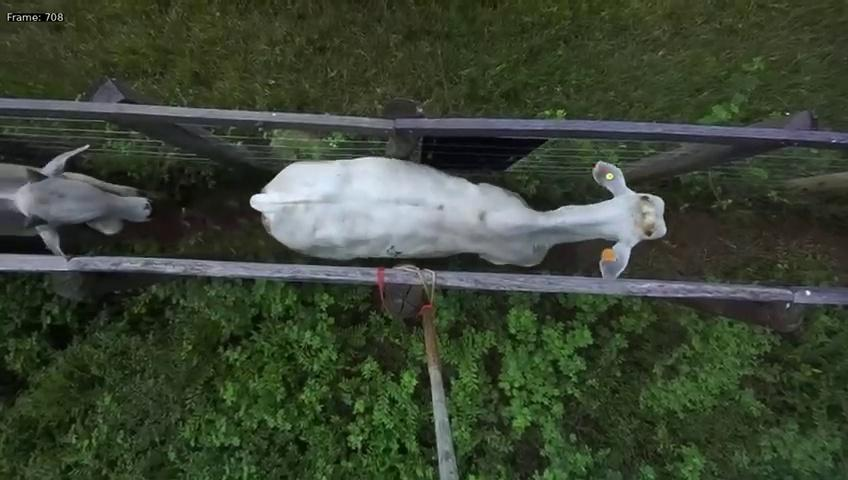cattle: (247, 160, 669, 277), (1, 141, 153, 260)
